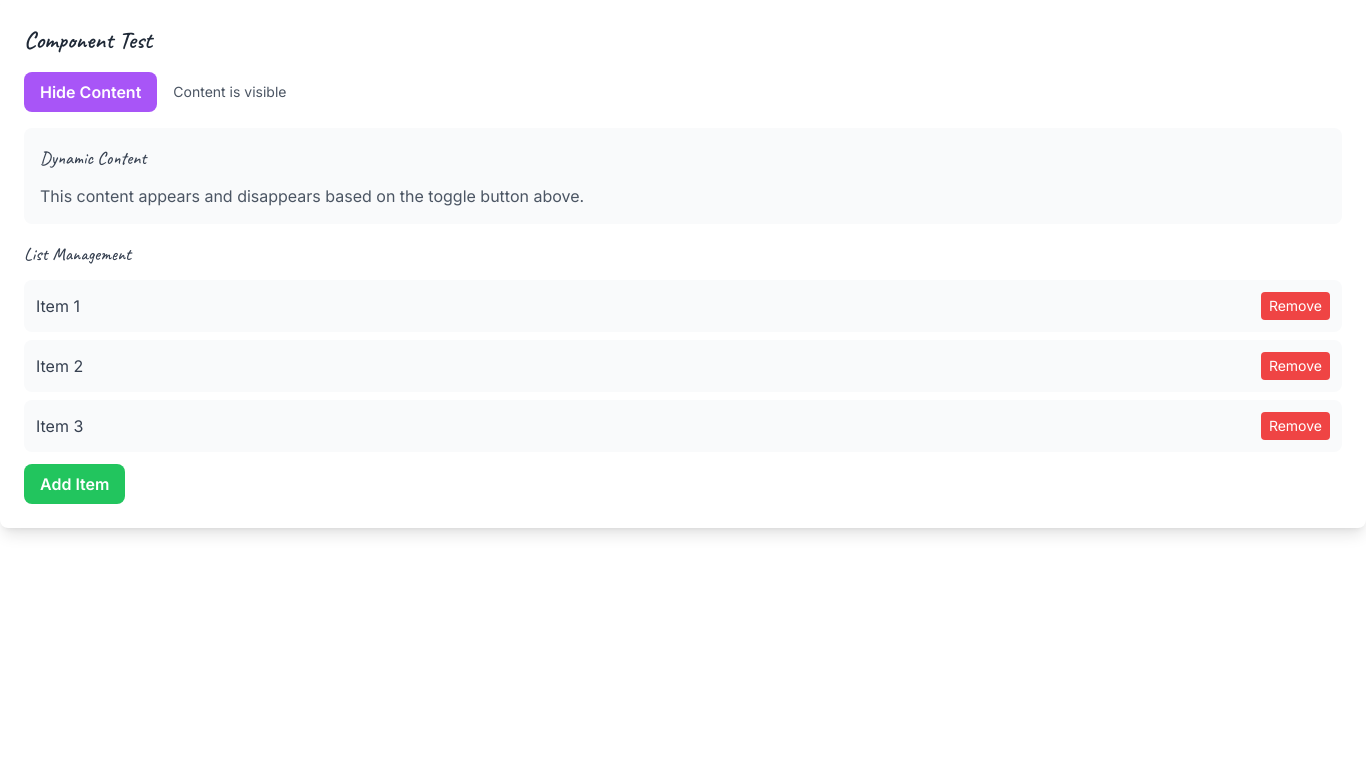
Test case: TestComponent › removes items from the list
The image size is (1366, 768).
Click the button "Remove" in the row of "Item 1".
click(1295, 306)  # box [1261, 292, 1330, 320]
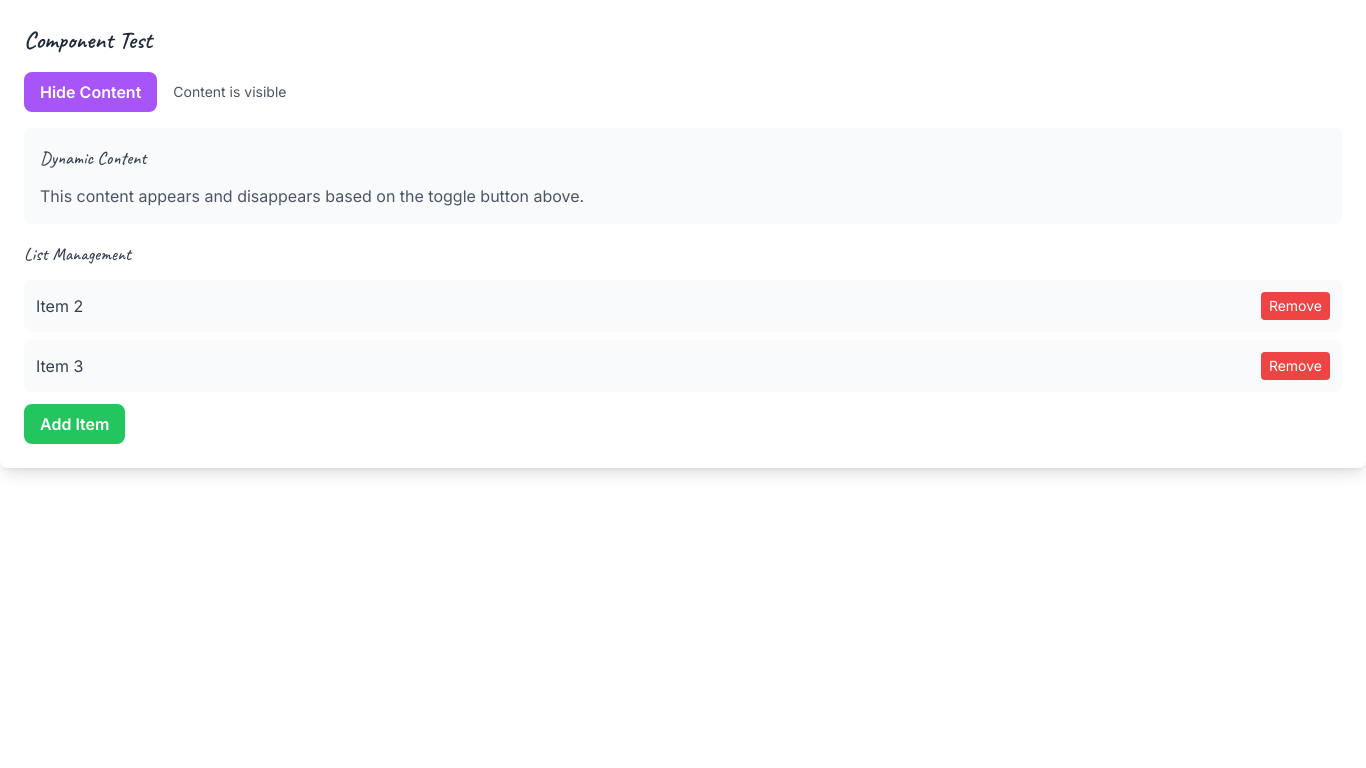
Now the text "Item 1" is gone
Now the text "Item 2" is shown, box [36, 294, 83, 318]
Now the text "Item 3" is shown, box [36, 354, 83, 378]
